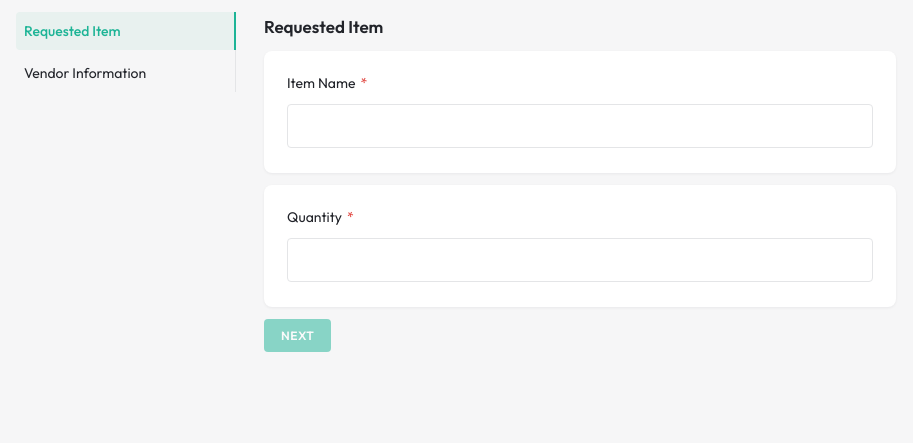
Test: RequestFormComponent › blocks "Next" and highlights errors while the section is invalid
Click the submit button: point(298, 336) [264,319,331,352]
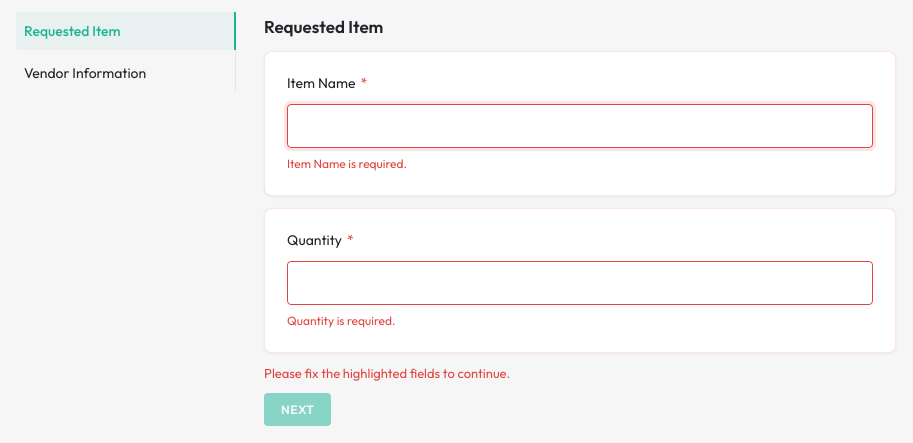
Check: the number of elements with class "field--invalid" is 2, box [264,51,896,196]; [264,208,896,353]
Check: the message "Please fix the highlighted fields to continue." is shown, box [264,365,510,381]
